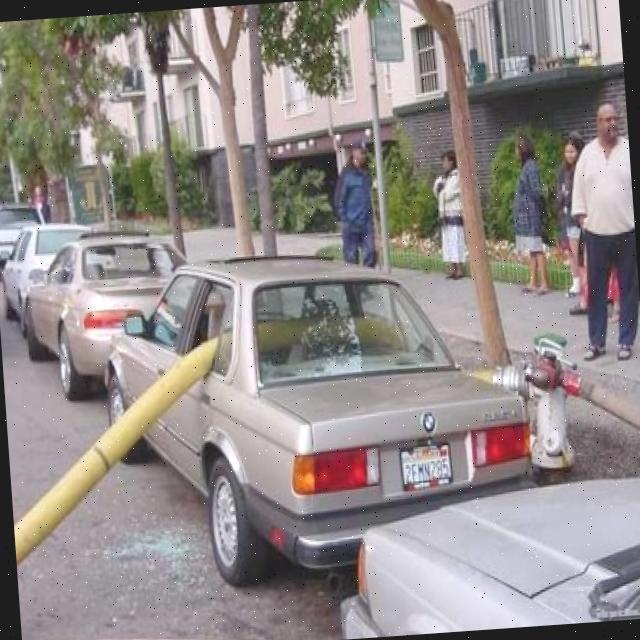fire_hydrant: (485, 328, 585, 487)
